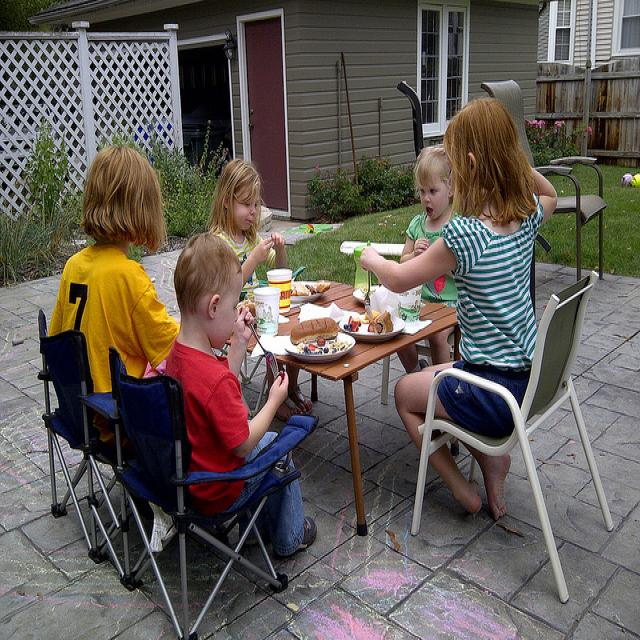chair: (410, 269, 617, 608), (114, 345, 310, 626), (35, 279, 123, 577), (484, 81, 604, 283), (398, 80, 425, 163)
dining table: (250, 278, 461, 537)
